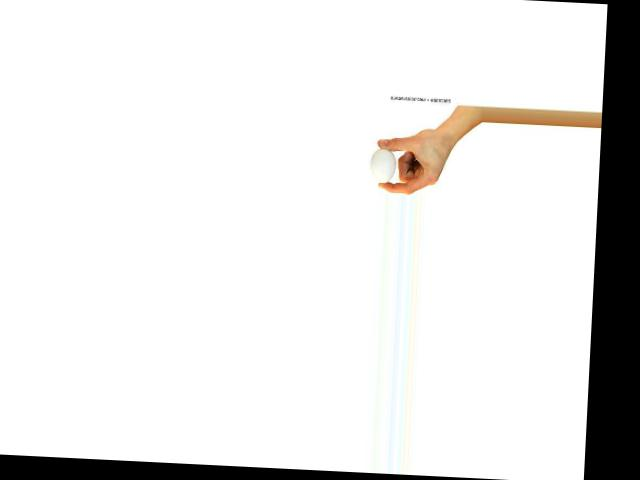egg: (370, 147, 397, 183)
